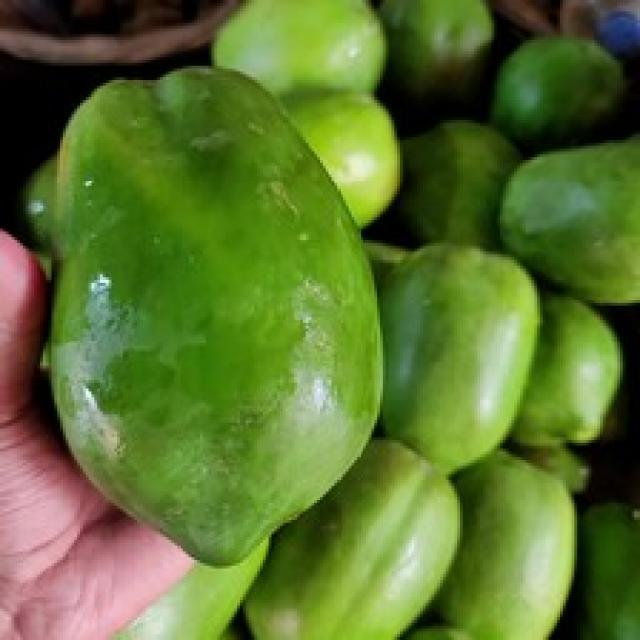Pepaya unrippen: (49, 64, 385, 581), (397, 243, 537, 479)
